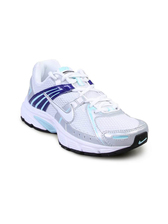shoes: (17, 56, 153, 155)
